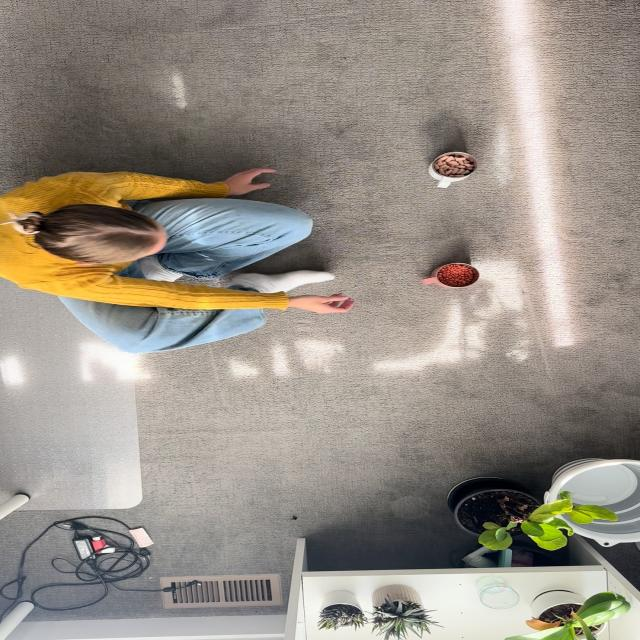IBC: (429, 152, 476, 188), (421, 262, 479, 288)
